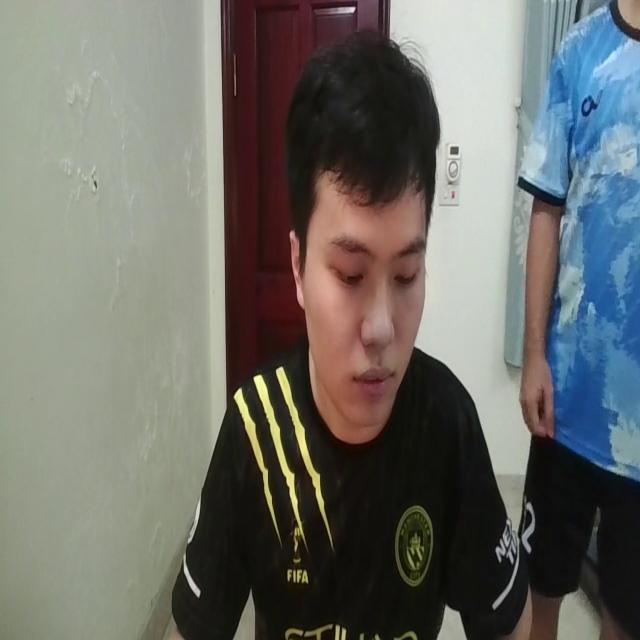extra_person: (518, 0, 640, 640)
student: (170, 32, 532, 640)
